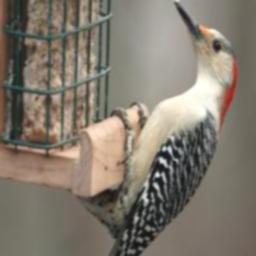Woodpecker: (75, 0, 240, 256)
